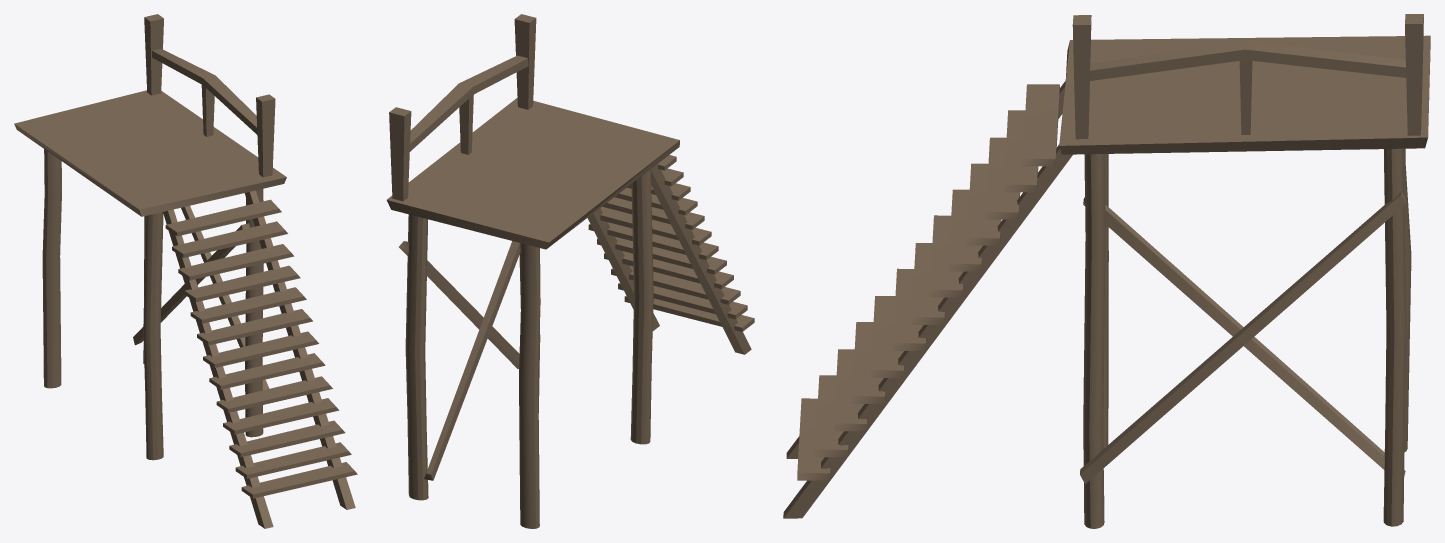
The model's file is stair_wood_repair.fbx.
3 views of the same model, side by side, from view 1: azimuth 30°, elevation 25°; view 2: azimuth 150°, elevation 25°; view 3: azimuth 270°, elevation 25° (orthographic). The views are drawn at different scales.
Parts seen in each view (by area): view 1: stair_wood_repair; view 2: stair_wood_repair; view 3: stair_wood_repair.
Boxes of the visible parts, x1,y1,x2,y2 form: stair_wood_repair: [14, 14, 357, 528]; stair_wood_repair: [386, 14, 754, 528]; stair_wood_repair: [783, 14, 1430, 528].
Size of the model in its own units: 2.27 by 4.89 by 5.64.
